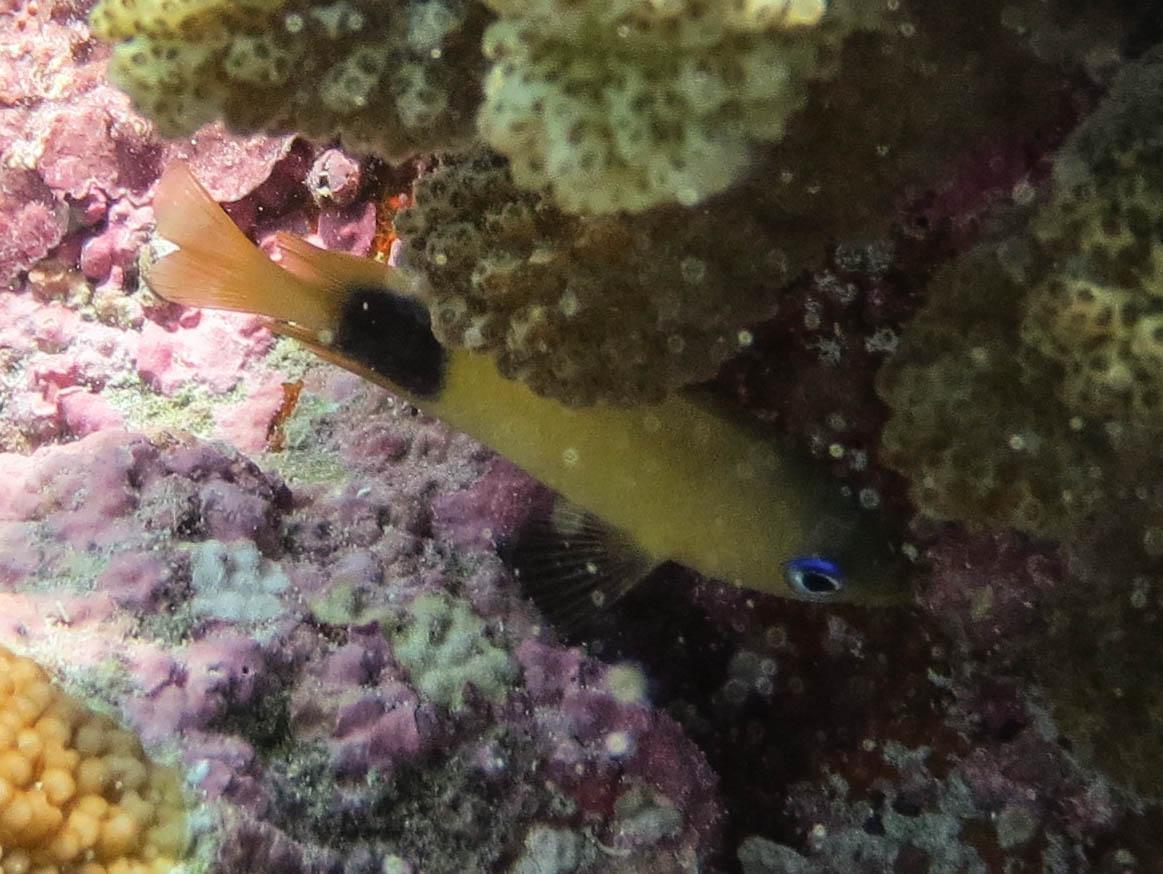Fish: (130, 174, 926, 657)
